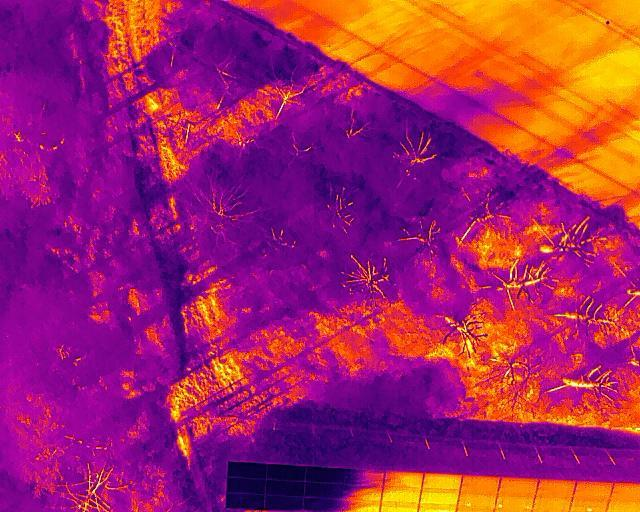Cell: (458, 490, 497, 506)
Cell-Multi: (495, 493, 534, 509)
No-Anomaly: (536, 479, 576, 500), (573, 480, 611, 501), (384, 471, 424, 488), (424, 472, 463, 489), (420, 489, 462, 504), (380, 488, 422, 503), (498, 477, 537, 493), (462, 475, 500, 491)
Shadowing: (226, 491, 266, 509), (226, 476, 267, 493), (227, 461, 267, 478), (306, 466, 345, 483), (264, 495, 304, 511), (265, 479, 305, 495), (343, 485, 384, 500), (304, 483, 344, 498), (266, 464, 306, 479), (344, 471, 385, 485), (303, 498, 341, 512)
